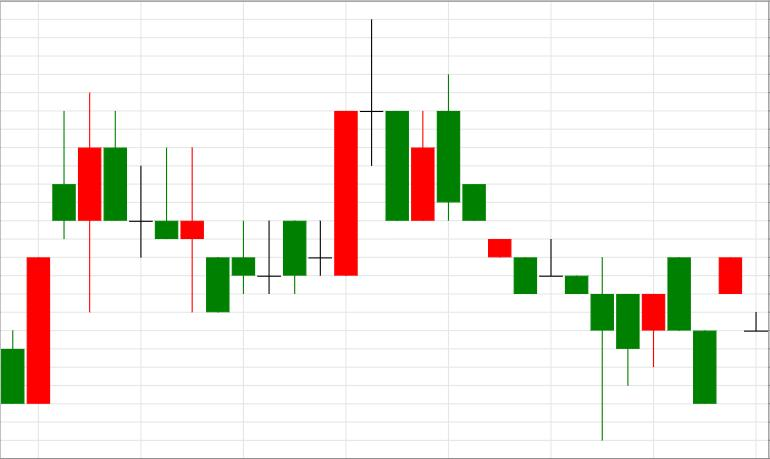evening_star_fall: (206, 19, 409, 313)
